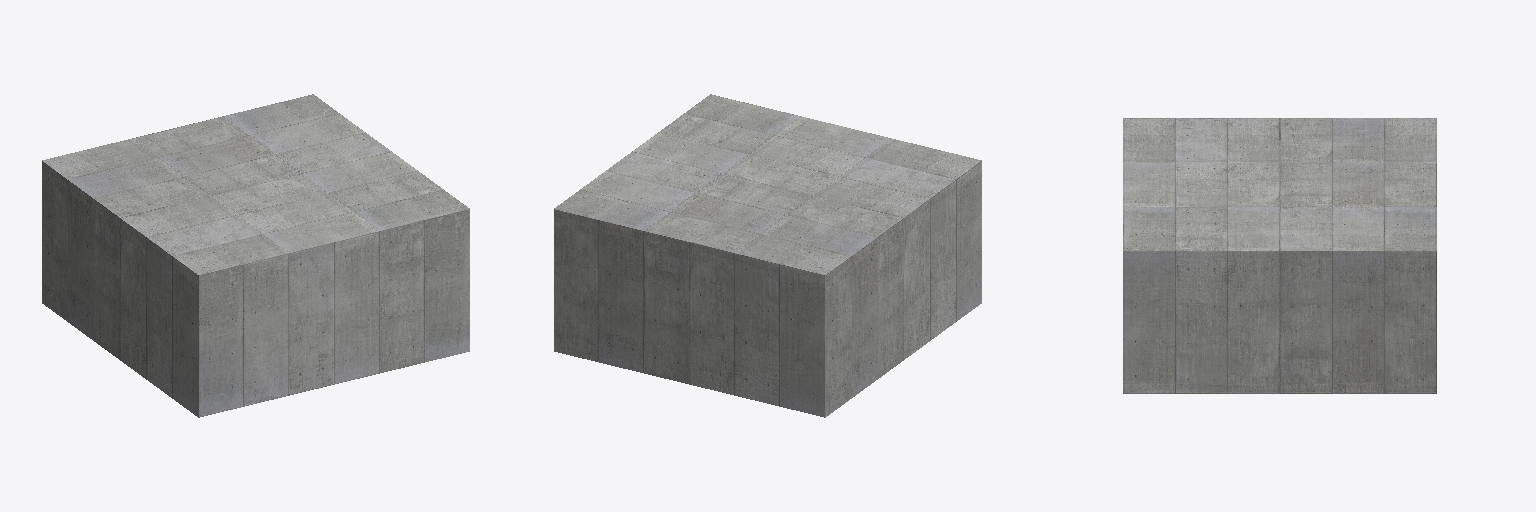
3 views of the same model, side by side, from view 1: azimuth 30°, elevation 25°; view 2: azimuth 150°, elevation 25°; view 3: azimuth 270°, elevation 25° (orthographic).
Parts seen in each view (by area): view 1: Room; view 2: Room; view 3: Room.
Part boxes in pixels (left/top/right/bottom): Room: left=42, top=94, right=469, bottom=417; Room: left=554, top=94, right=981, bottom=417; Room: left=1123, top=118, right=1436, bottom=393.
Bounding box in the file's own units: 16 × 8 × 16.
2 materials, 2 textured.